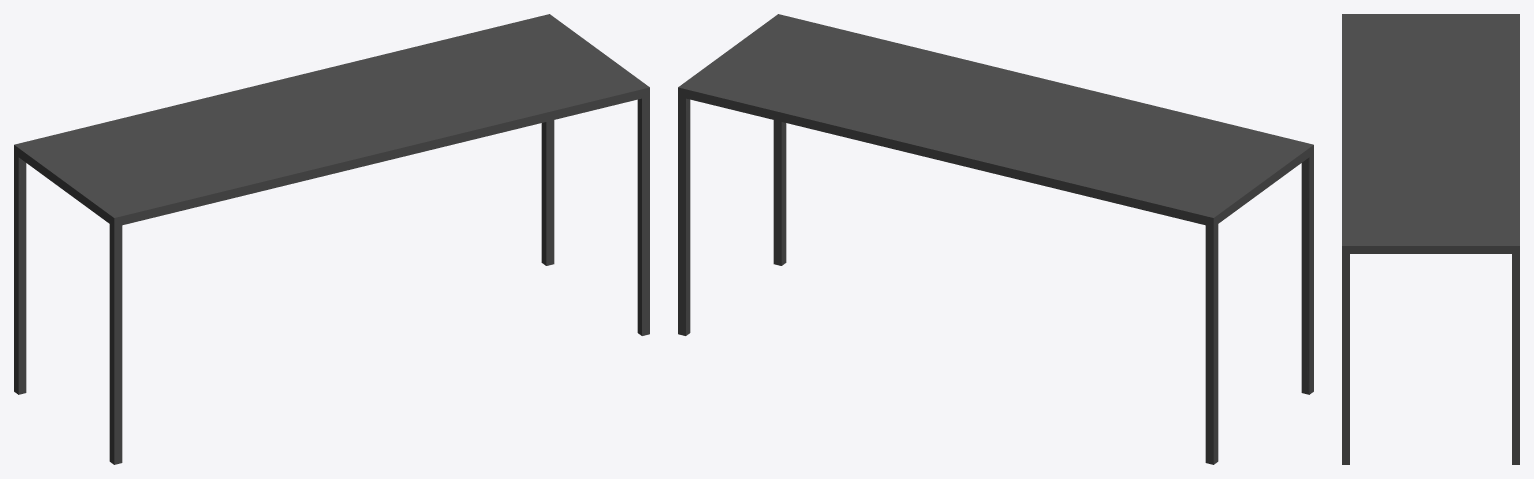
File: table.fbx
3 views of the same model, side by side, from view 1: azimuth 30°, elevation 25°; view 2: azimuth 150°, elevation 25°; view 3: azimuth 270°, elevation 25° (orthographic). The views are drawn at different scales.
Visible parts, largest first — view 1: table; view 2: table; view 3: table.
Part boxes in pixels (x1,y1,x2,y2): table: (14, 14, 649, 464); table: (678, 14, 1313, 464); table: (1342, 14, 1519, 464).
Bounding box in the file's own units: 105 × 143 × 324.
1 material, 1 textured.
